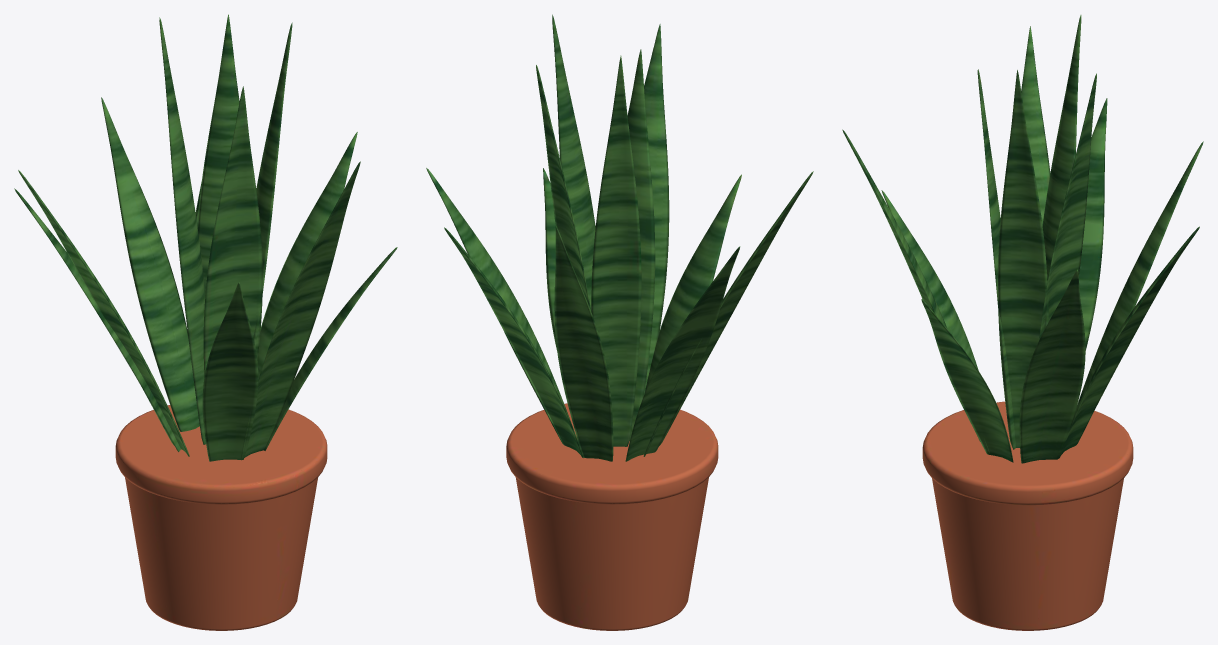
Rendered from plant.glb.
The picture shows the model from 3 angles, left to right: view 1: azimuth 30°, elevation 25°; view 2: azimuth 150°, elevation 25°; view 3: azimuth 270°, elevation 25°; orthographic projection.
Visible parts, largest first — view 1: Cone; view 2: Cone; view 3: Cone.
Part boxes in pixels (<box>): Cone: <box>14,14,397,630</box>; Cone: <box>426,14,813,630</box>; Cone: <box>842,15,1203,630</box>.
Bounding box in the file's own units: 0.6658 × 1 × 0.5767.
1 material, 1 textured.
